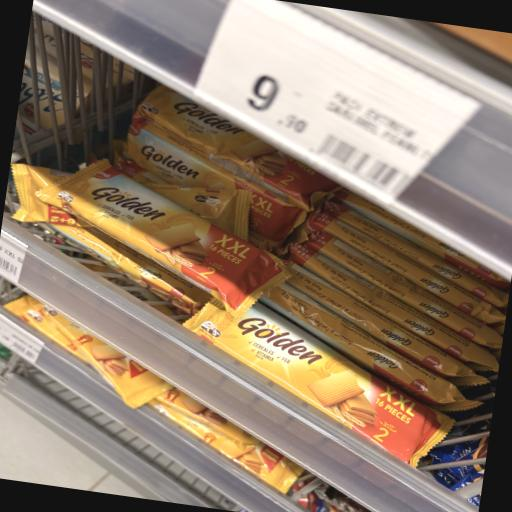golden: (15, 119, 297, 394)
